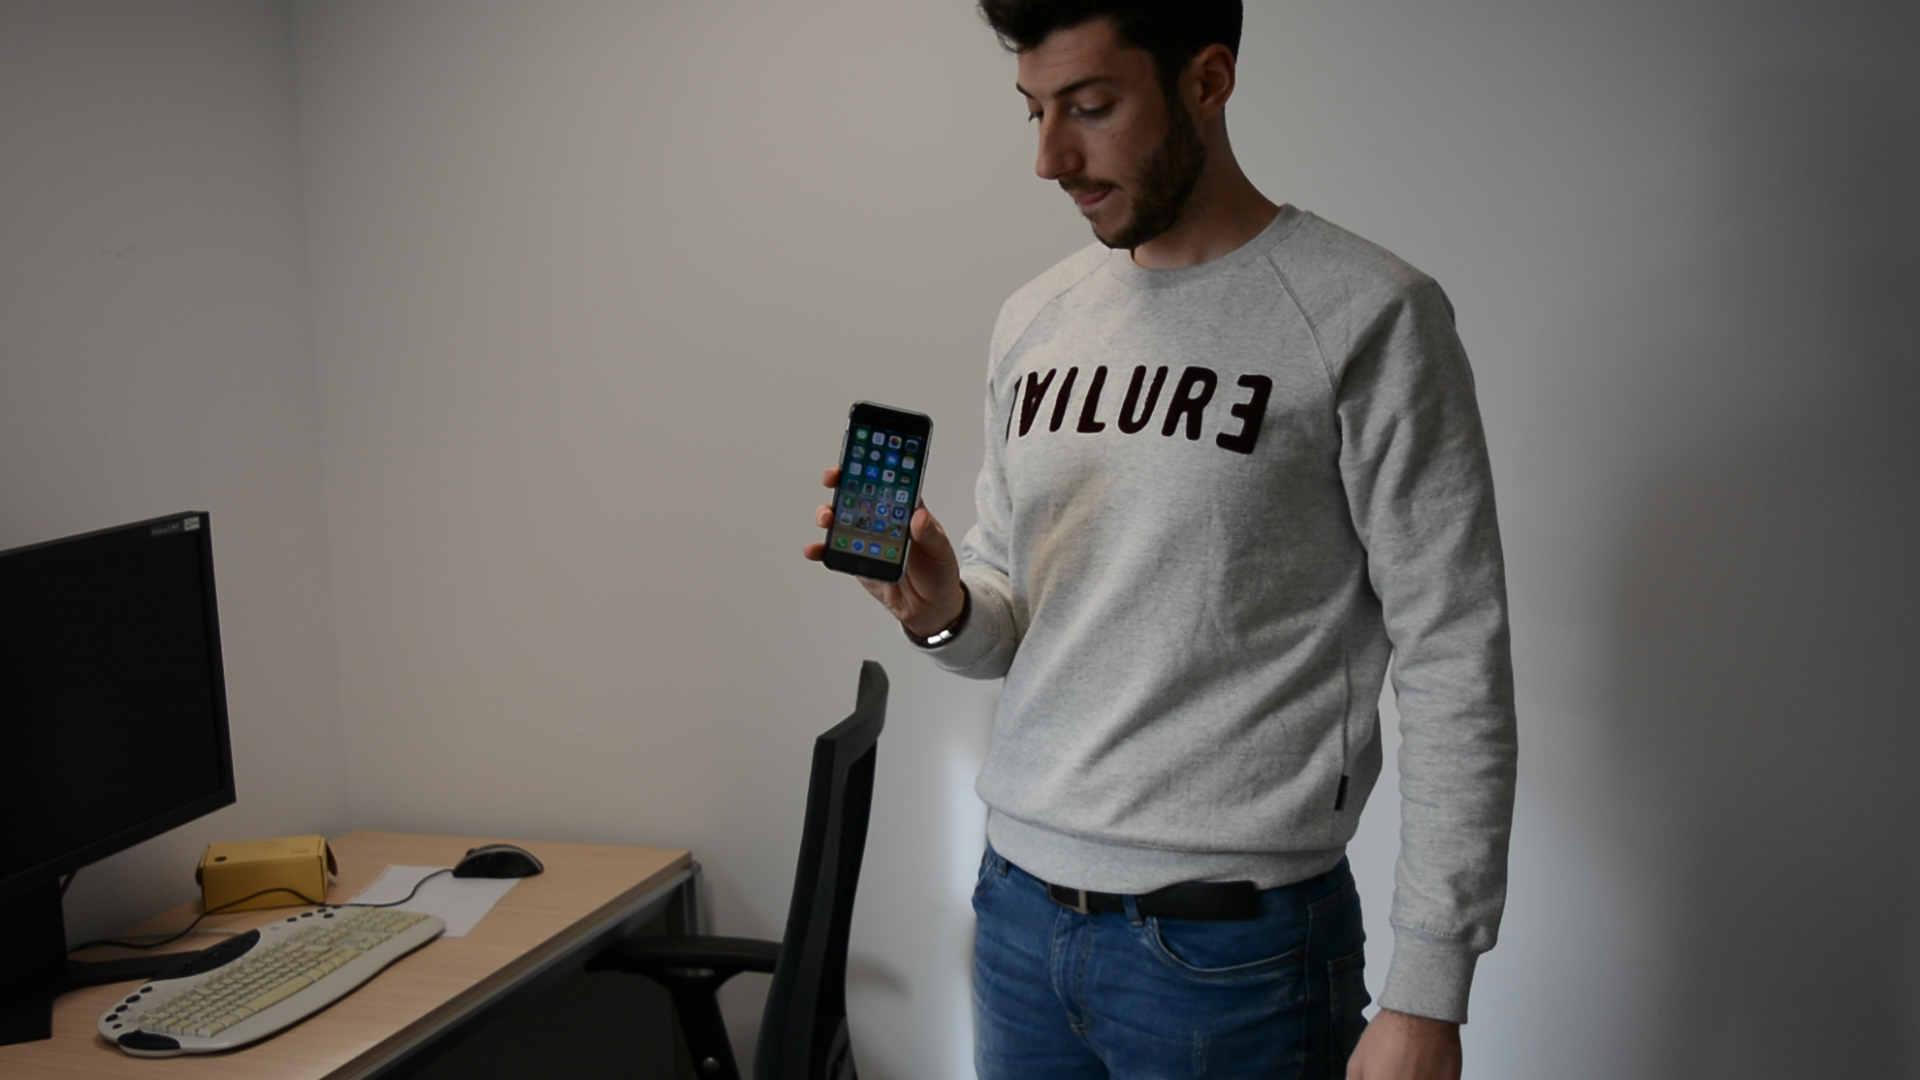smartphone: (819, 400, 934, 585)
